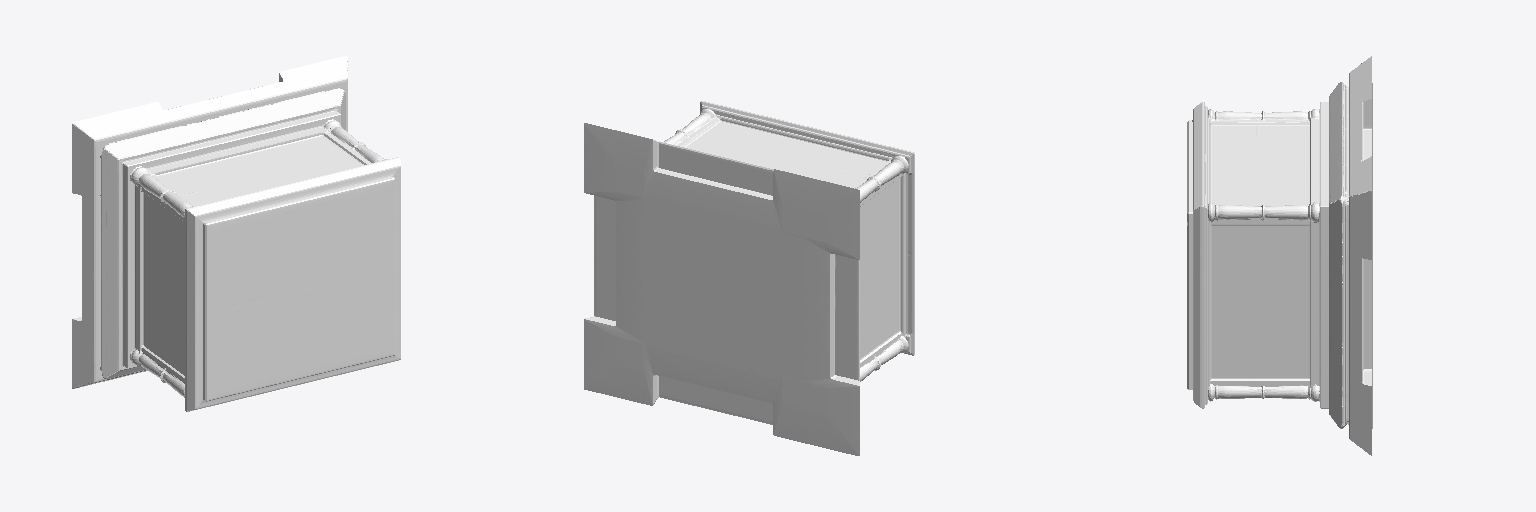
Rendered from BoxA.obj.
The picture shows the model from 3 angles: view 1: azimuth 30°, elevation 25°; view 2: azimuth 150°, elevation 25°; view 3: azimuth 270°, elevation 25°; orthographic projection.
Parts seen in each view (by area): view 1: default; view 2: default; view 3: default.
Boxes of the visible parts, box(x1,y1,x2,y2) form: default: box(72, 55, 400, 411); default: box(584, 101, 914, 455); default: box(1187, 56, 1372, 455).
Size of the model in its own units: 54.8 by 50.53 by 31.8.